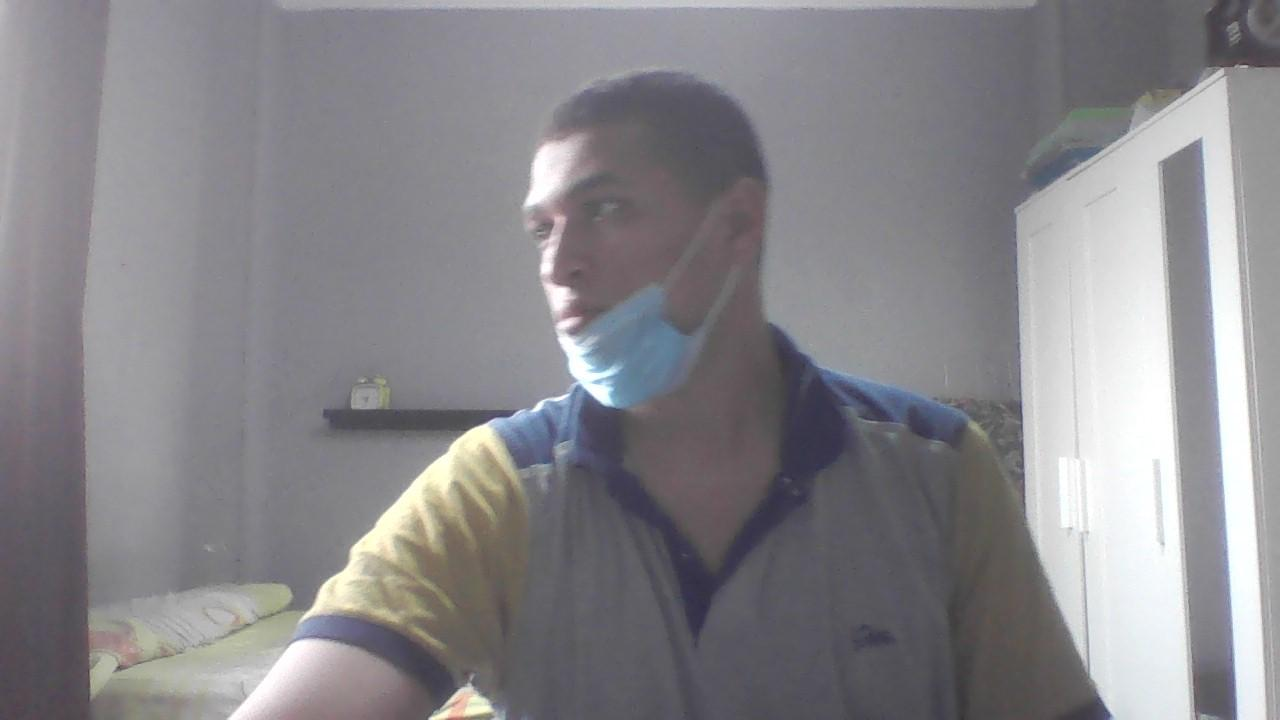mask_weared_incorrect: (529, 120, 753, 427)
